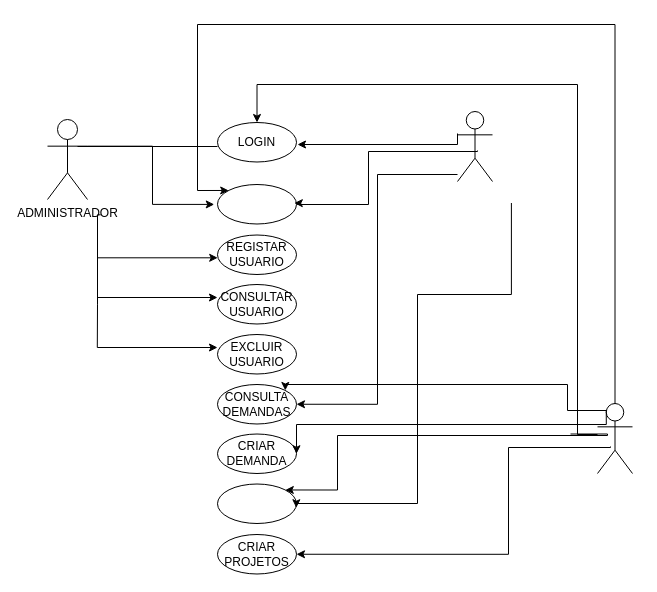
This 657x592 diagram has some shape labels left out. Here are the shapes that lost their labels. From the top down, the centre of each, then its label:
the point at 474,146: DESENVOLVEDOR
the point at 256,204: CONSULTA PERFIL
the point at 614,438: GESTOR
the point at 256,503: CONSULTAR PROJETOS
